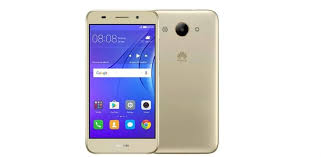huawei: (84, 9, 158, 155), (156, 9, 220, 156)
